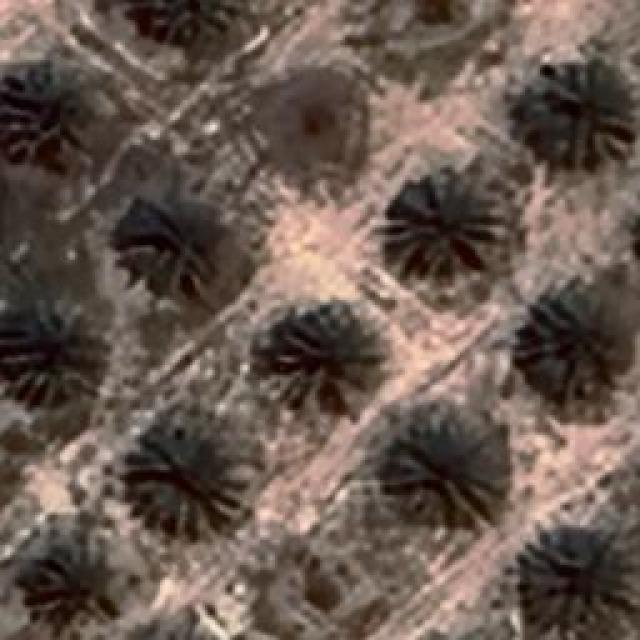PalmTree: (514, 288, 628, 412), (380, 175, 505, 285), (520, 530, 638, 635), (130, 430, 242, 538), (268, 310, 388, 410), (0, 297, 110, 405), (530, 60, 635, 170), (390, 425, 505, 525), (0, 67, 92, 162), (30, 542, 120, 630), (123, 205, 210, 288), (147, 0, 235, 40)
